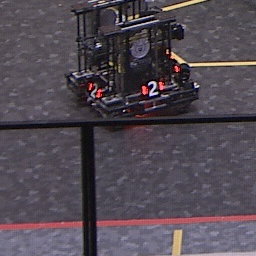Red: (139, 79, 164, 97), (86, 79, 103, 102)
Robot: (62, 1, 201, 126)
